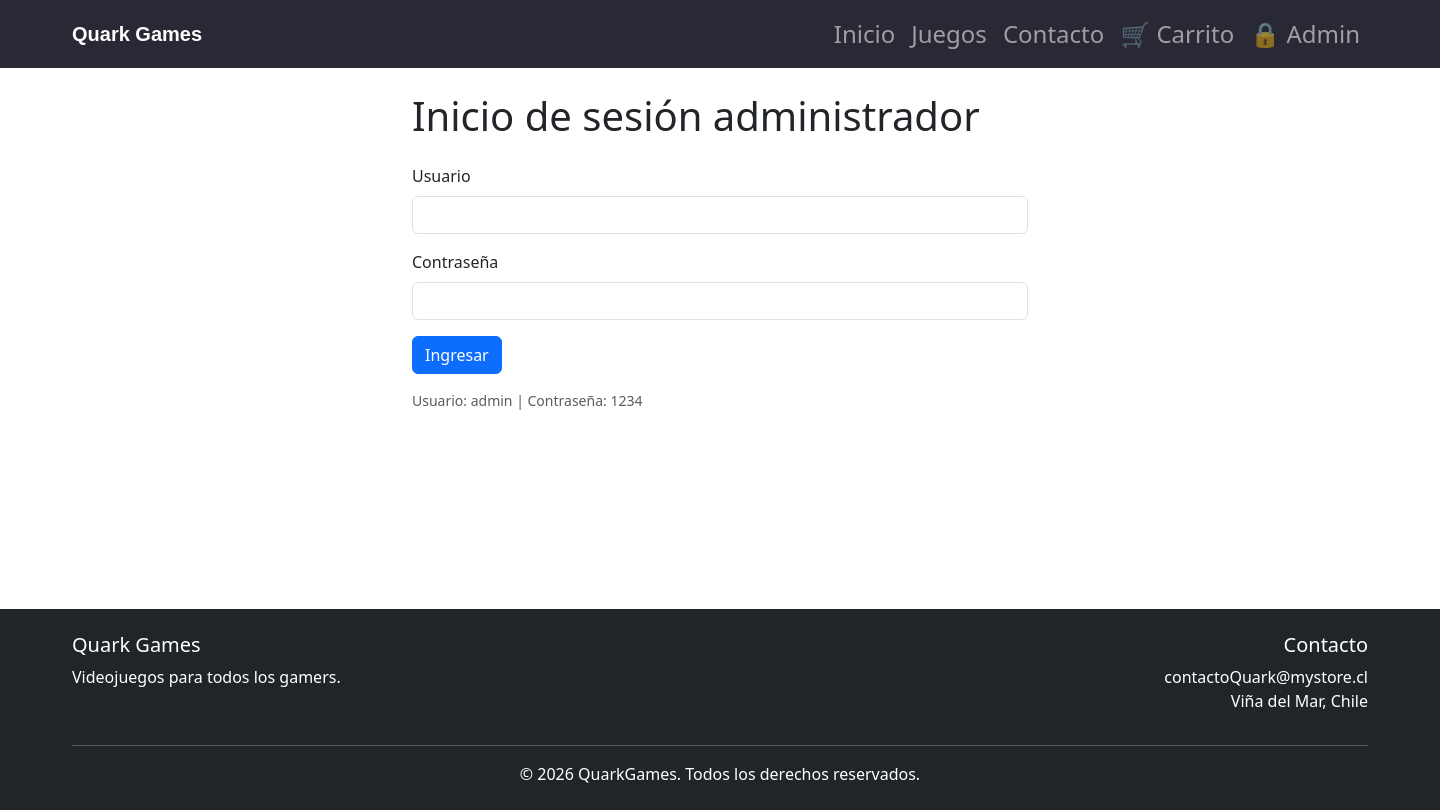
App: integración de rutas, sesión y carrito › rechaza las credenciales incorrectas con una alerta
# 2 Actuar: usuario correcto, contraseña incorrecta
Step 1. Type "admin" into the field labelled "Usuario" → (720, 215), box [412,196,1028,234]
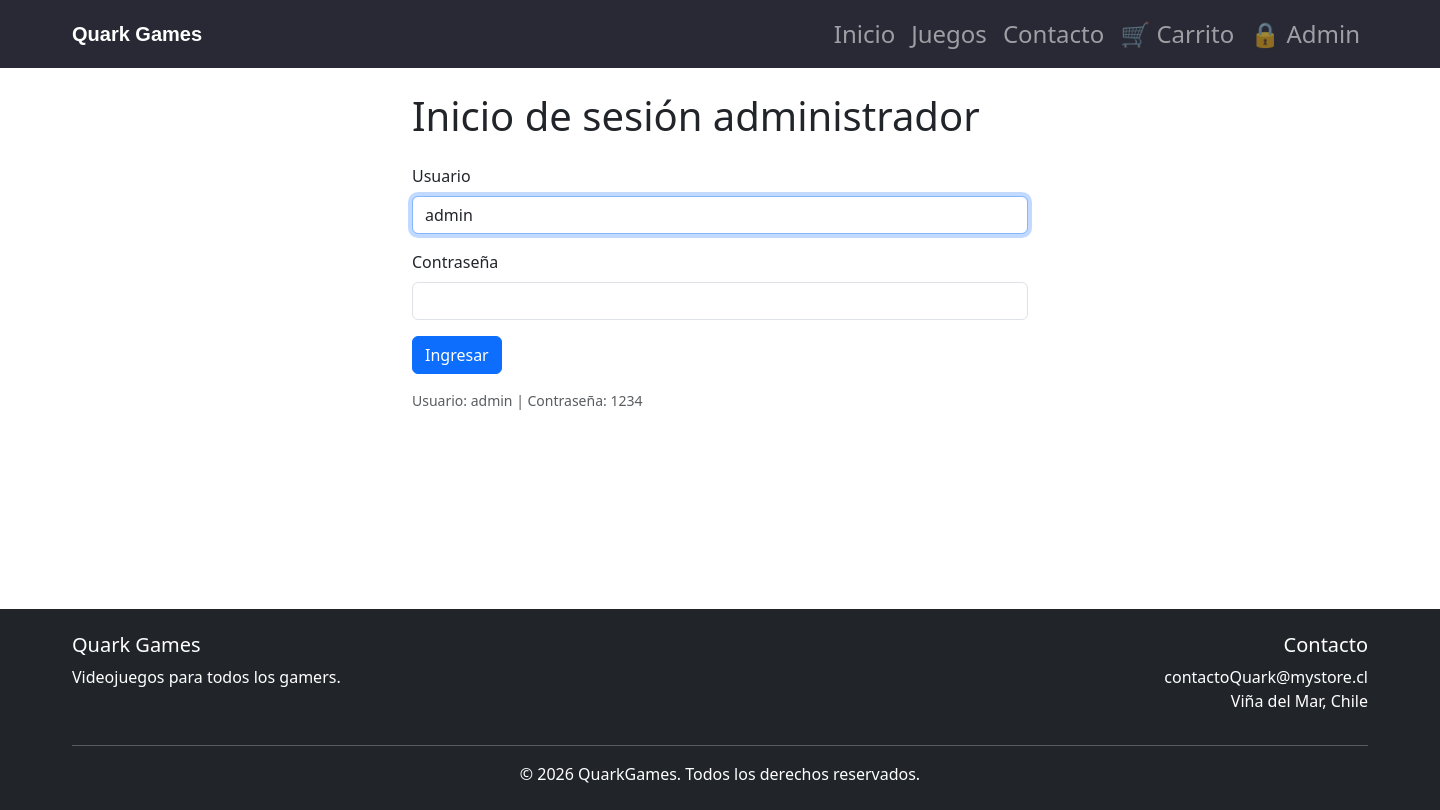
Step 2. Type "0000" into the password field labelled "Contraseña" → (720, 301), box [412,282,1028,320]
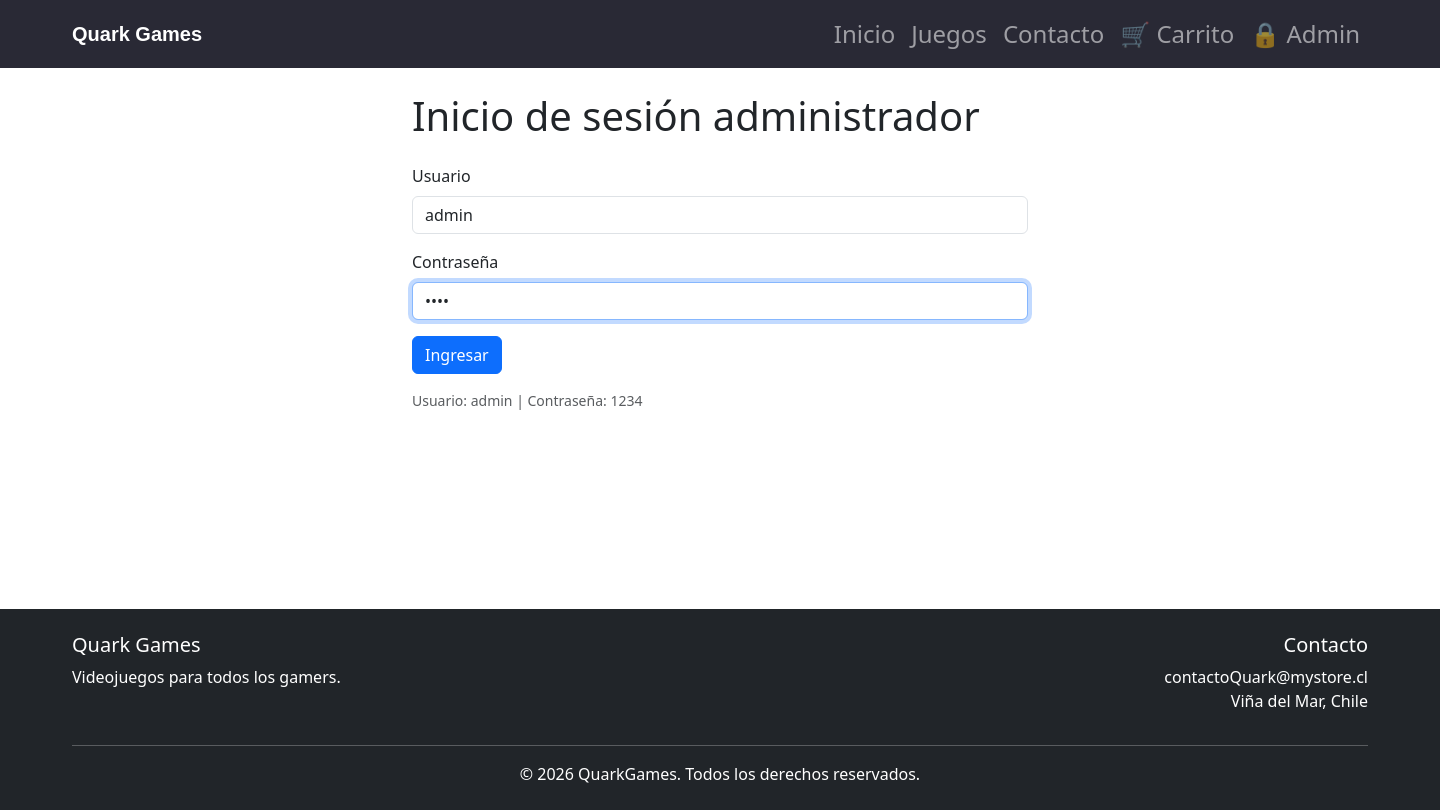
Step 3. Click the button "Ingresar" → click(457, 355), box [412,336,502,374]
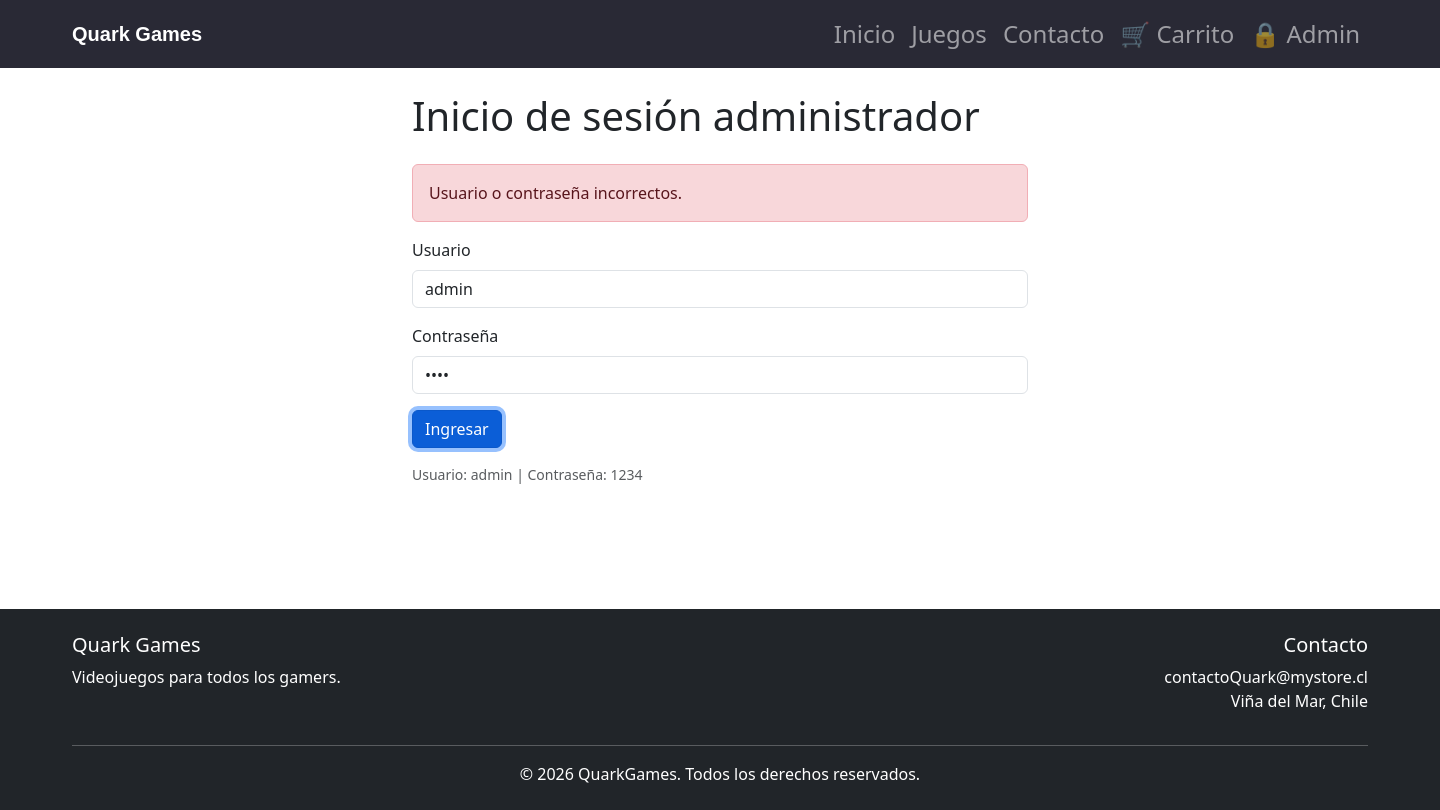
Expected: the message reads "Usuario o contraseña incorrectos.", [429,182,682,204]
